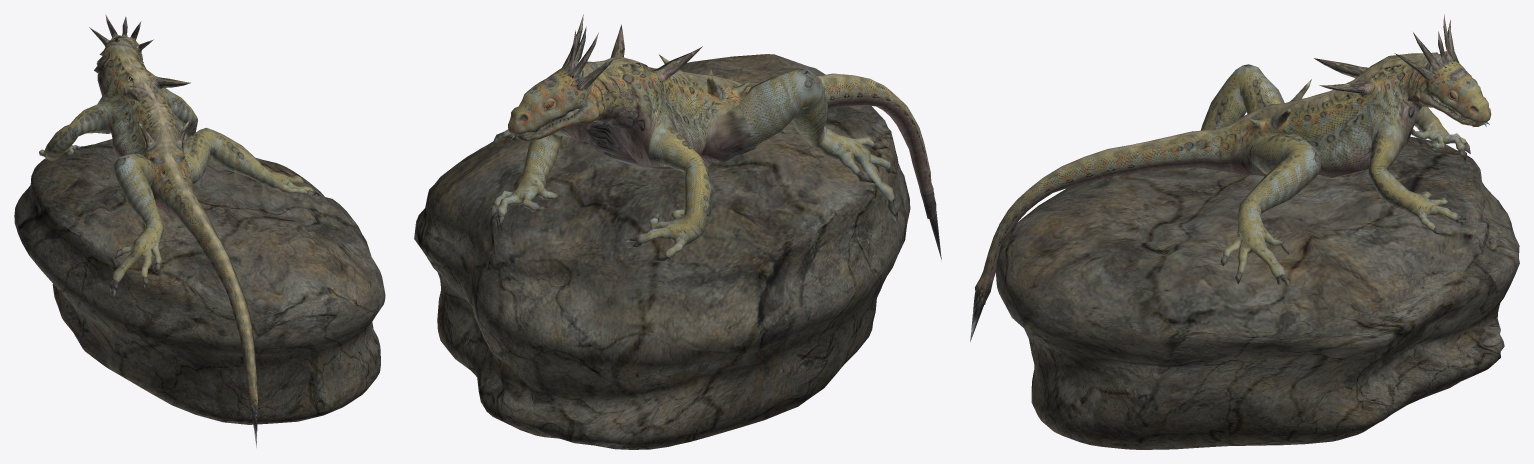
The model's file is lizard.dae.
The picture shows the model from 3 angles, left to right: view 1: azimuth 30°, elevation 25°; view 2: azimuth 150°, elevation 25°; view 3: azimuth 270°, elevation 25°; orthographic projection. The views are drawn at different scales.
Visible parts, largest first — view 1: rock_geo, lizard_geo; view 2: rock_geo, lizard_geo; view 3: rock_geo, lizard_geo.
Part boxes in pixels (x1=…): rock_geo: x1=14, y1=139, x2=385, y2=424; lizard_geo: x1=39, y1=14, x2=321, y2=447; rock_geo: x1=414, y1=54, x2=910, y2=449; lizard_geo: x1=490, y1=14, x2=941, y2=261; rock_geo: x1=996, y1=136, x2=1519, y2=449; lizard_geo: x1=970, y1=14, x2=1491, y2=341.
Bounding box in the file's own units: 0.7736 × 0.8616 × 1.11.
Materials: 3 (3 with a texture image).
